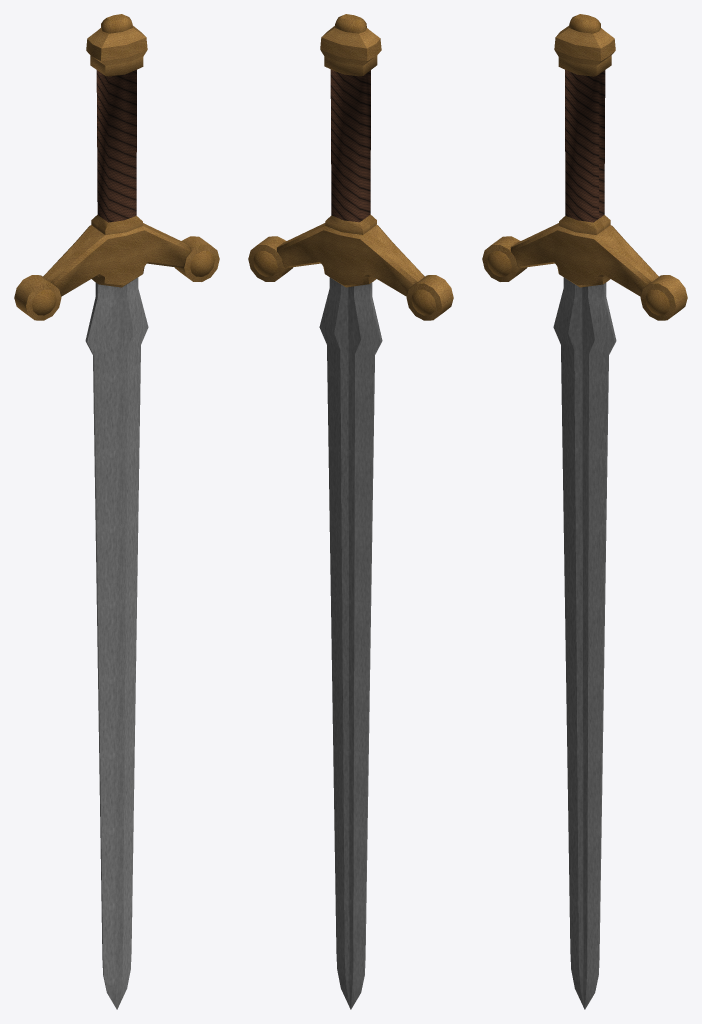
Rendered from 001 Broadsword..fbx.
The picture shows the model from 3 angles, left to right: view 1: azimuth 30°, elevation 25°; view 2: azimuth 150°, elevation 25°; view 3: azimuth 330°, elevation 25°; orthographic projection.
Parts seen in each view (by area): view 1: 001 Broadsword 89cm 0.89m; view 2: 001 Broadsword 89cm 0.89m; view 3: 001 Broadsword 89cm 0.89m.
Boxes of the visible parts, x1,y1,x2,y2 form: 001 Broadsword 89cm 0.89m: (14,14,219,1009); 001 Broadsword 89cm 0.89m: (248,14,453,1009); 001 Broadsword 89cm 0.89m: (482,14,687,1009).
Size of the model in its own units: 18.19 by 89.02 by 3.33.
1 material, 1 textured.
